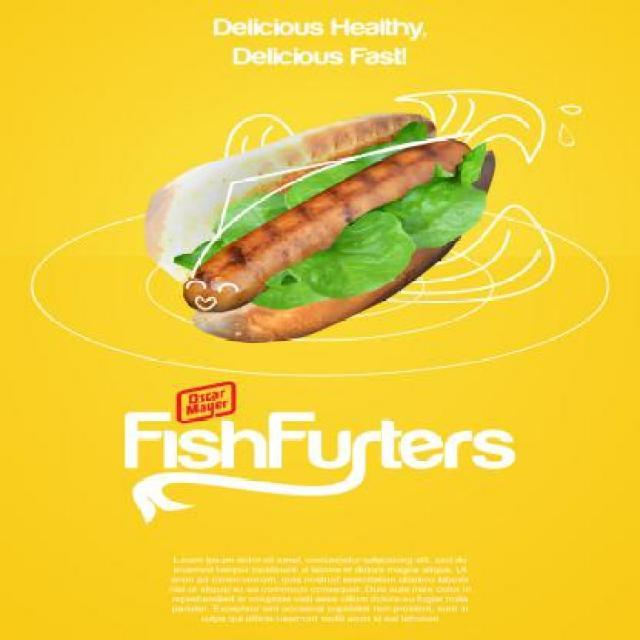Hot dog: (160, 96, 506, 344)
